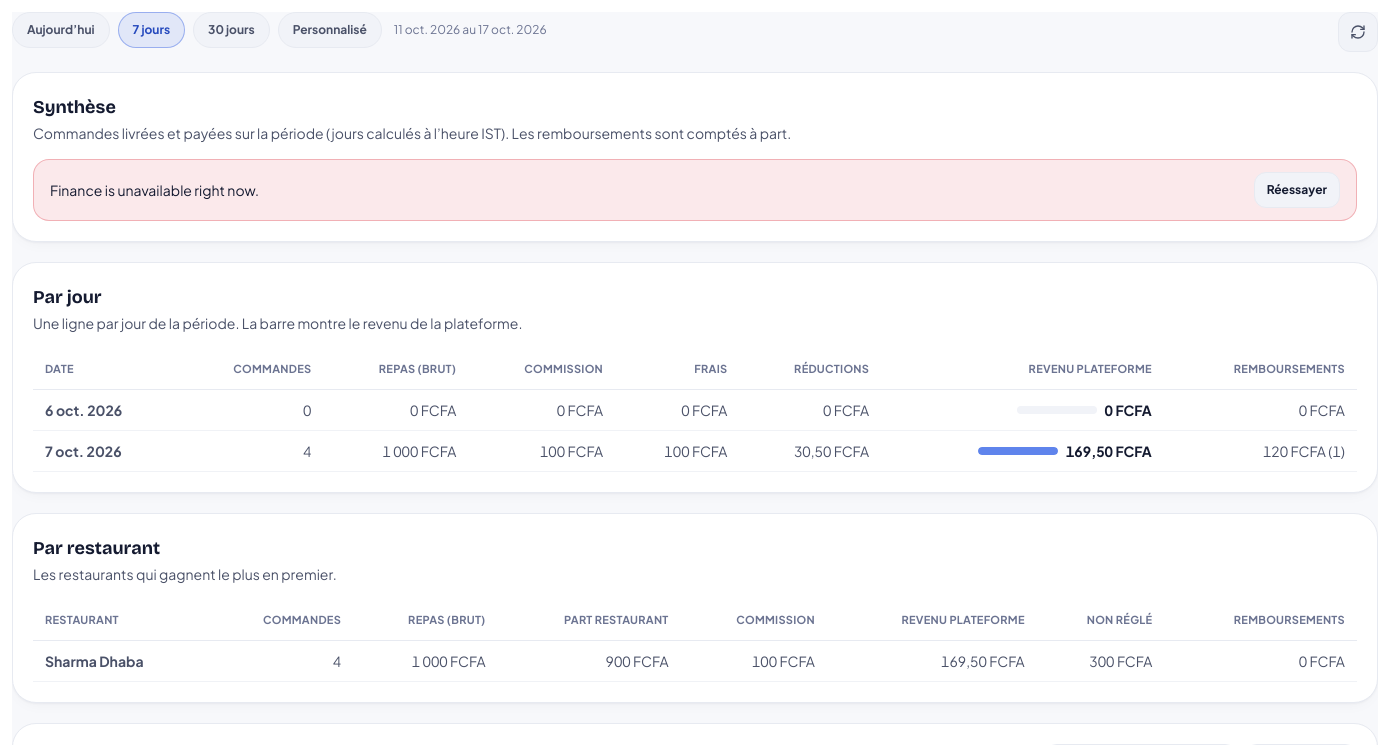
FinanceOverview › one section failing shows its own error and the rest still work; Try again reloads only that section
Expected: the message "Finance is unavailable right now. Réessayer" is shown, [33,159,1357,221]
Click the button "Réessayer": (1297, 190) [1254,172,1340,208]
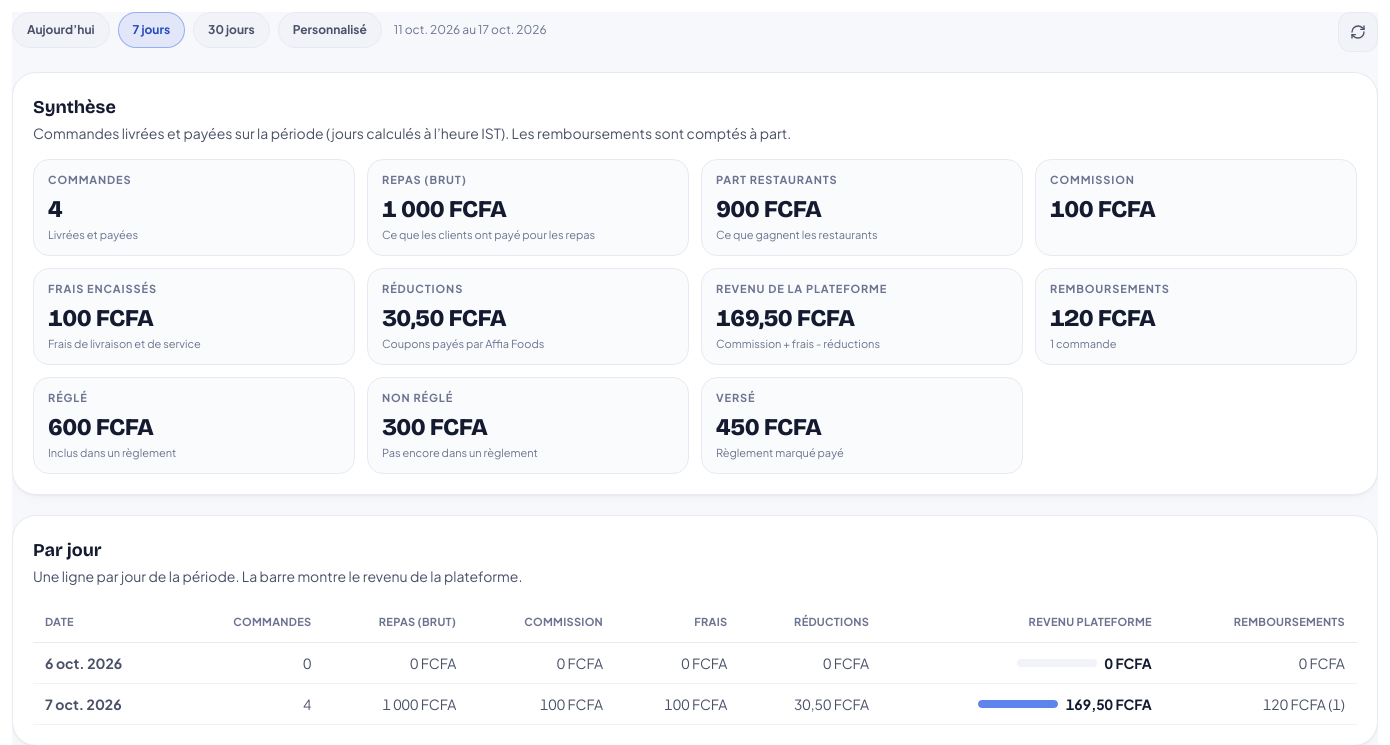
Now the element with test id "finance-cards" is shown, box [33,159,1357,474]
